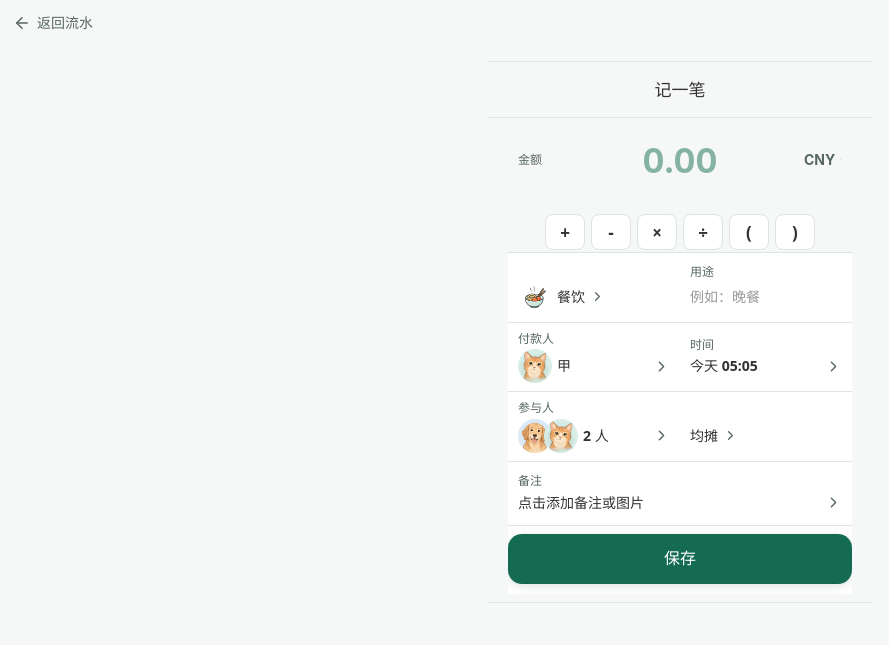
记账金额表达式 › 显示表达式结果并支持运算按钮插入
The width and height of the screenshot is (889, 645).
Type "12.5+8*2" into the field with placeholder "0.00" at (680, 160), box [570,133,790,187]
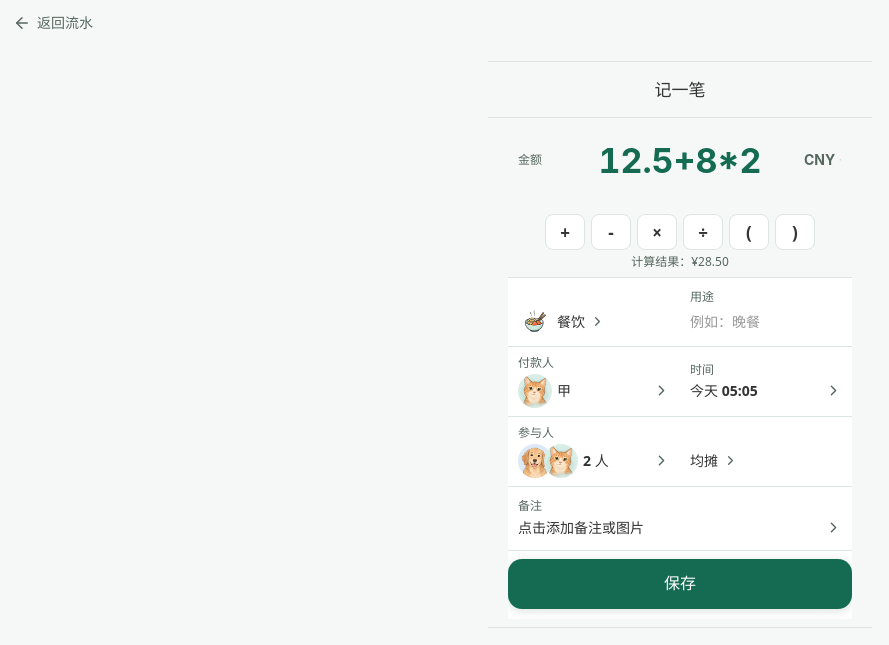
Expected: the text "计算结果：¥28.50" is shown, [631,253,729,270]
Replace the text in the field with placeholder "0.00" with "12" at (680, 160), box [570,133,790,187]
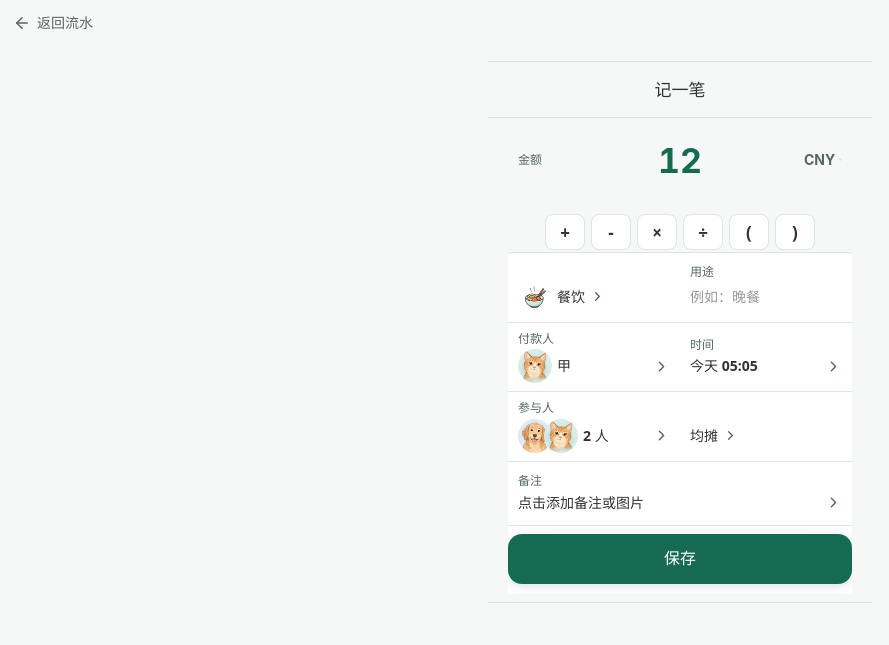
Click the button named "插入乘运算符" at (657, 232), box [637,214,677,250]
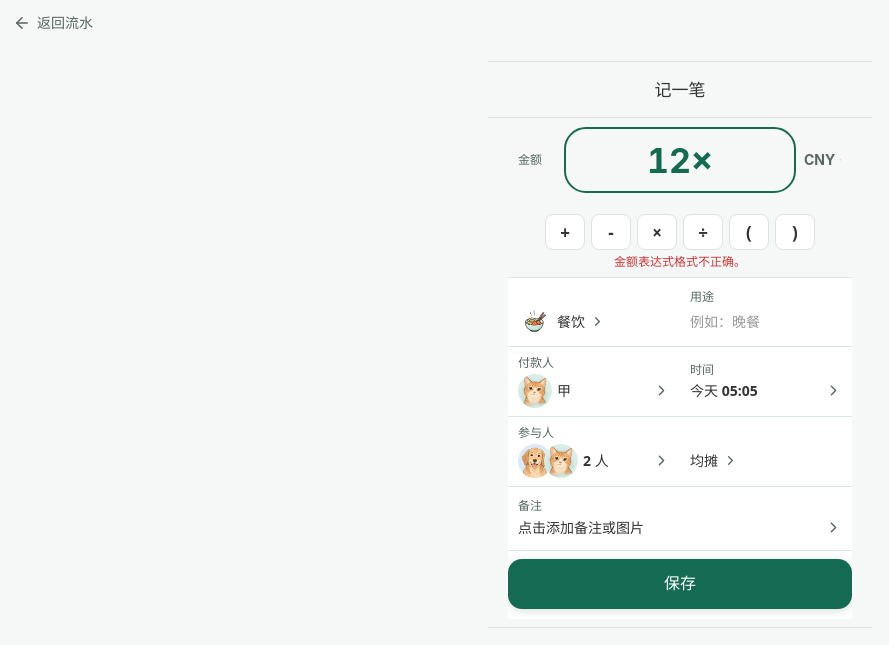
Expected: the field with placeholder "0.00" holds "12×", [570,133,790,187]
